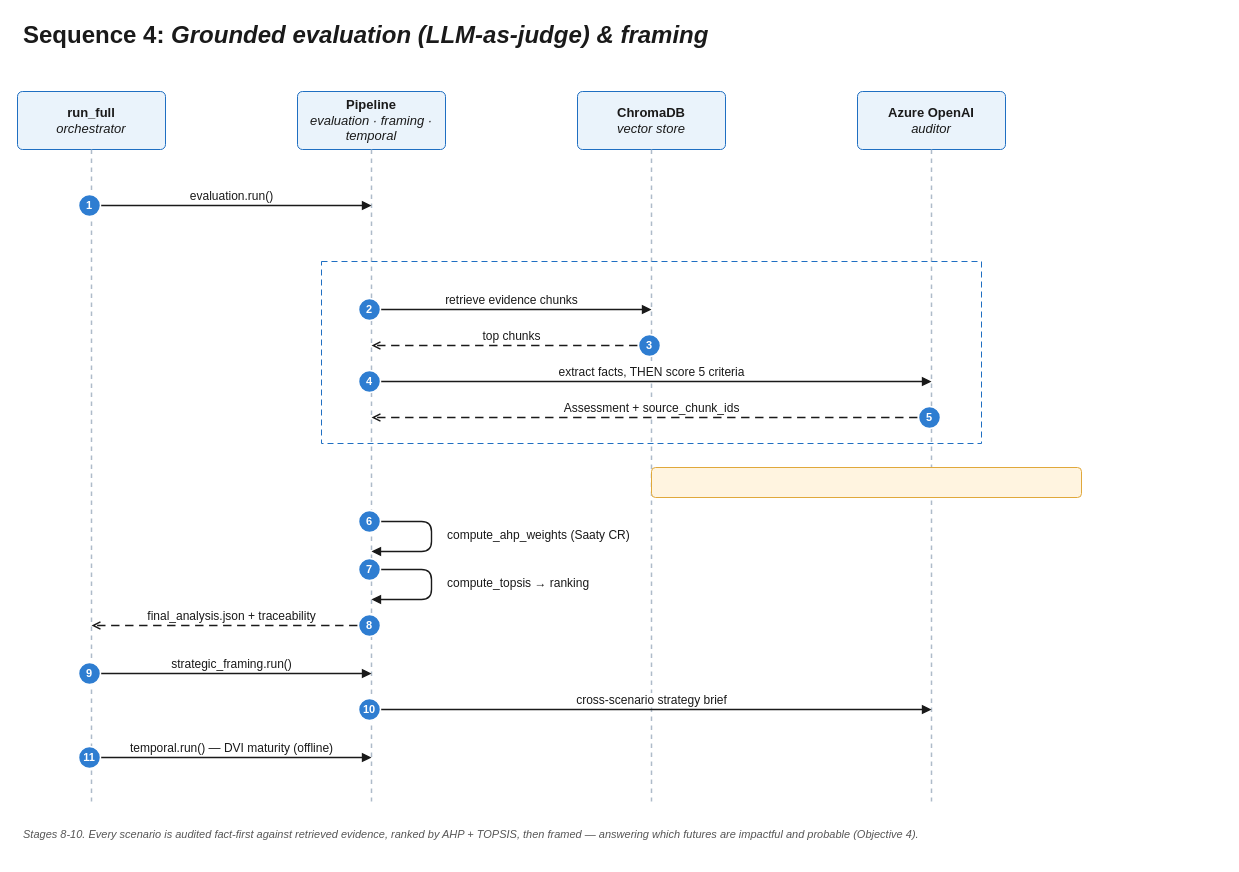
Some shapes in this 1239 by 872 pixel diagram are drawn without their labels. Each missing label, with the box of its shape:
fact-first order · counters positivity bias: (650, 466, 1082, 498)
loop · per scenario: (320, 260, 982, 444)
